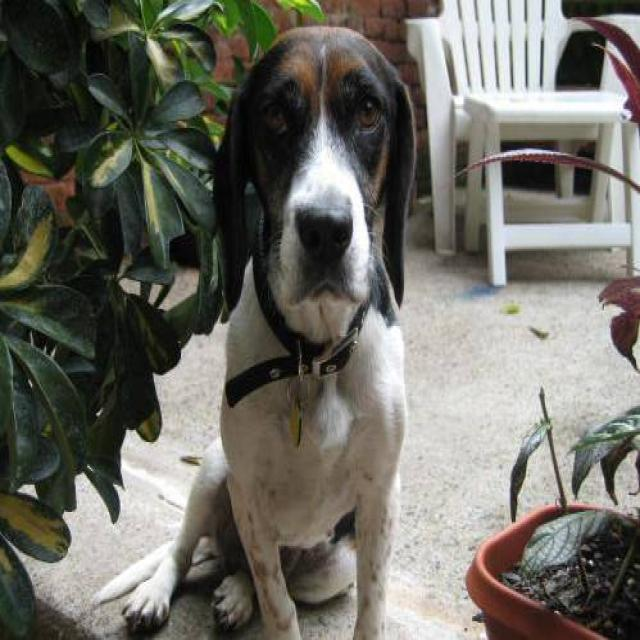dogs: (196, 17, 418, 640)
